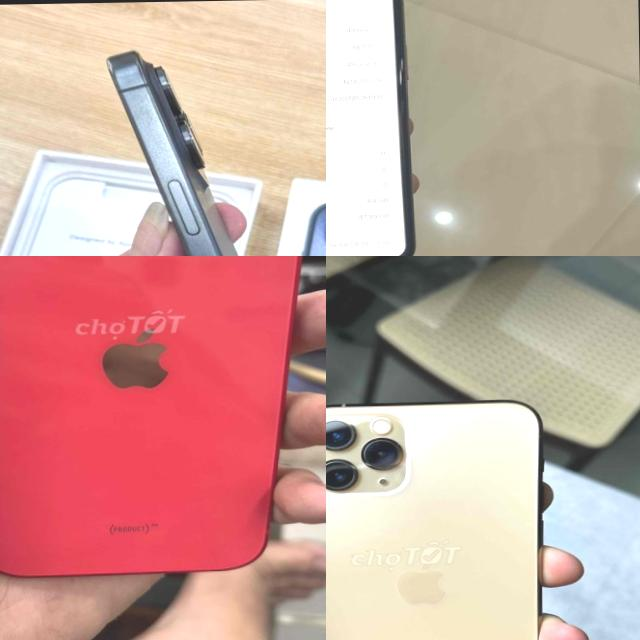gen_11: (326, 386, 562, 640)
gen_12_13: (0, 256, 326, 580)
gen_15: (94, 39, 326, 256)
gen_x_xs: (326, 0, 427, 256)
